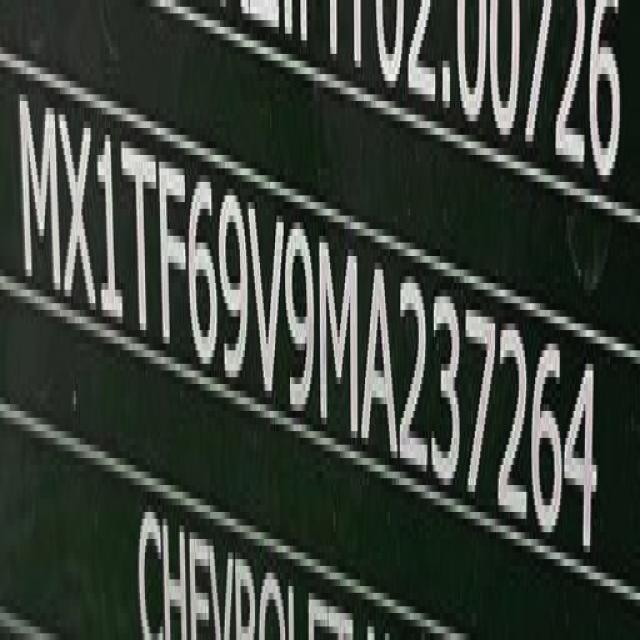1: (98, 118, 120, 334)
2: (397, 266, 429, 479), (502, 326, 530, 534)
3: (432, 281, 460, 496)
4: (570, 346, 601, 563)
6: (533, 333, 567, 549), (191, 162, 220, 378)
7: (466, 299, 494, 516)
9: (220, 182, 248, 393), (288, 212, 315, 427)
A: (364, 255, 395, 465)
F: (158, 162, 189, 350)
M: (16, 77, 58, 306), (317, 229, 358, 446)
T: (124, 128, 157, 346)
V: (246, 190, 285, 410)
X: (61, 105, 95, 322)
